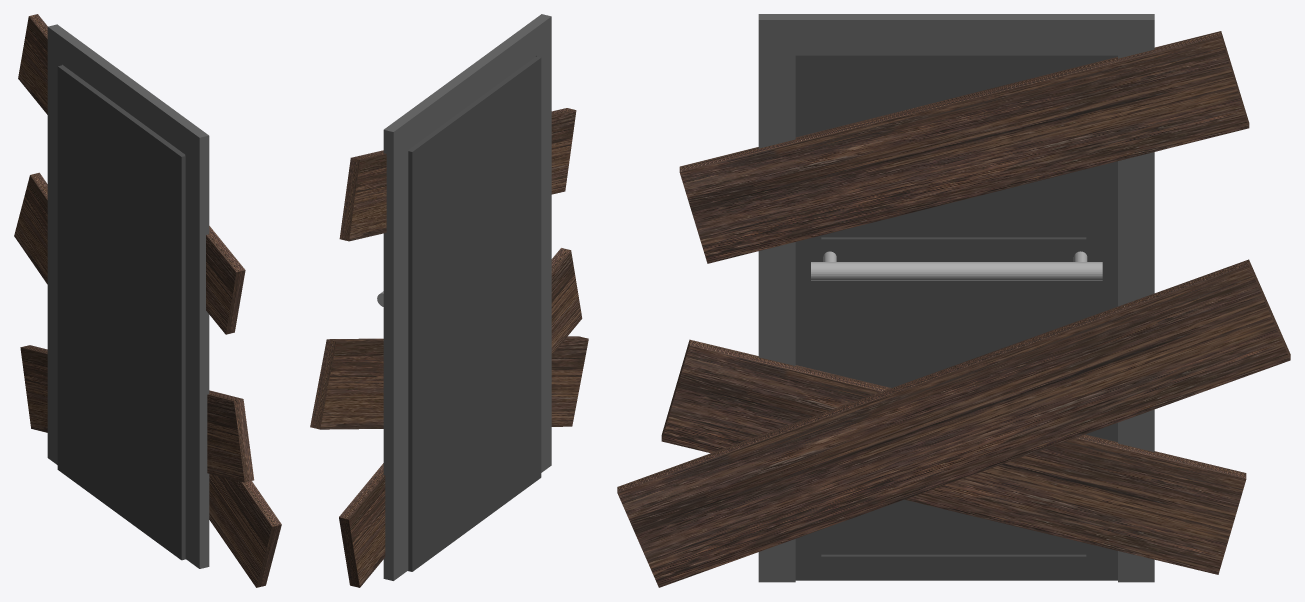
Rendered from door.glb.
3 renders of one model, left to right at view 1: azimuth 30°, elevation 25°; view 2: azimuth 150°, elevation 25°; view 3: azimuth 270°, elevation 25°, orthographic. The views are drawn at different scales.
Visible parts, largest first — view 1: Cylinder.001, Cube, Cube.002, Cube.004, Cube.003; view 2: Cylinder.001, Cube, Cube.002, Cube.004, Cube.003; view 3: Cylinder.001, Cube.002, Cube.003, Cube.004, Cube, Cylinder.002.
Boxes of the visible parts, x1,y1,x2,y2 form: Cylinder.001: [57, 65, 185, 560]; Cube: [47, 24, 209, 568]; Cube.002: [14, 172, 281, 587]; Cube.004: [20, 345, 254, 482]; Cube.003: [18, 14, 245, 334]; Cylinder.001: [408, 56, 541, 571]; Cube: [383, 14, 551, 580]; Cube.002: [310, 336, 588, 429]; Cube.004: [339, 248, 582, 587]; Cube.003: [339, 108, 576, 241]; Cylinder.001: [795, 55, 1117, 580]; Cube.002: [617, 259, 1290, 587]; Cube.003: [679, 31, 1249, 263]; Cube.004: [661, 339, 1246, 574]; Cube: [758, 14, 1154, 582]; Cylinder.002: [811, 251, 1102, 280].
Size of the model in its own units: 0.5462 by 5.66 by 6.13.
Materials: 4 (1 with a texture image).
